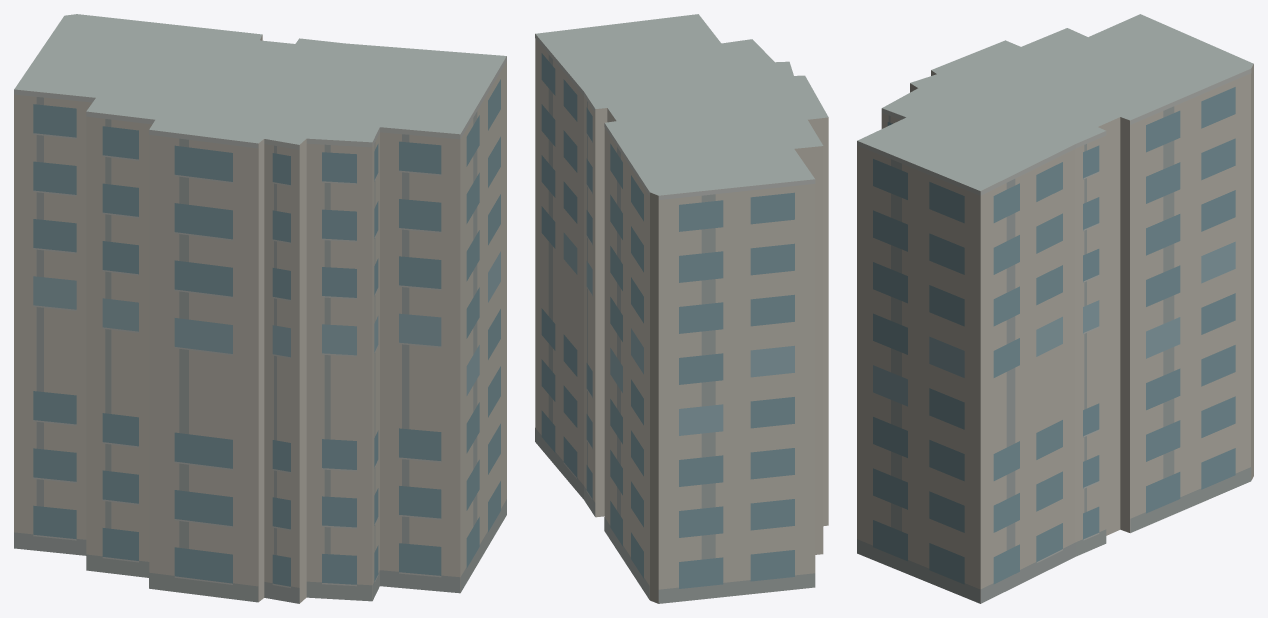
The model's file is survey-upis-32775921.glb.
3 views of the same model, side by side, from view 1: azimuth 30°, elevation 25°; view 2: azimuth 150°, elevation 25°; view 3: azimuth 270°, elevation 25° (orthographic). The views are drawn at different scales.
Parts seen in each view (by area): view 1: survey-upis-32775921.tmp; view 2: survey-upis-32775921.tmp; view 3: survey-upis-32775921.tmp.
Part boxes in pixels (<box>): survey-upis-32775921.tmp: <box>14,14,506,603</box>; survey-upis-32775921.tmp: <box>535,14,828,603</box>; survey-upis-32775921.tmp: <box>857,14,1253,603</box>.
Bounding box in the file's own units: 20.26 × 22 × 19.17.
